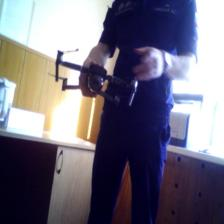drone: (49, 41, 143, 114)
